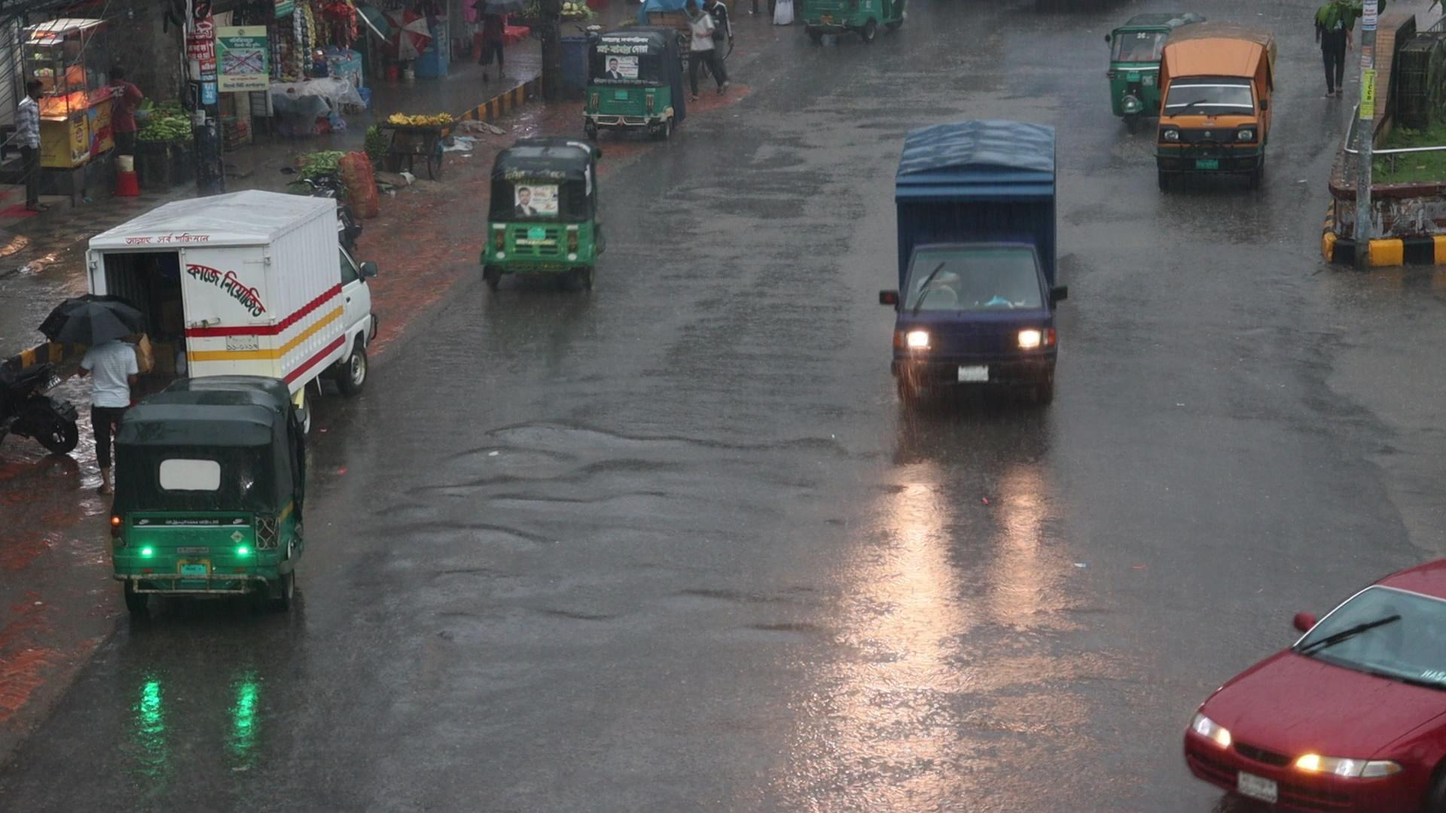Car: (1178, 558, 1446, 813)
Truck: (877, 114, 1071, 418), (1152, 17, 1279, 189)
